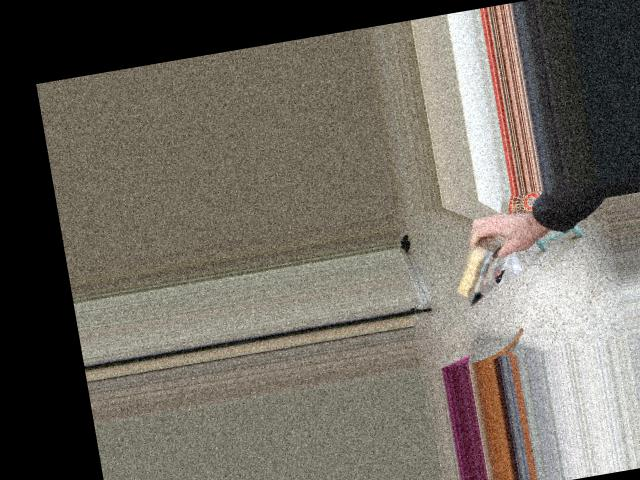cheese: (431, 201, 534, 322)
